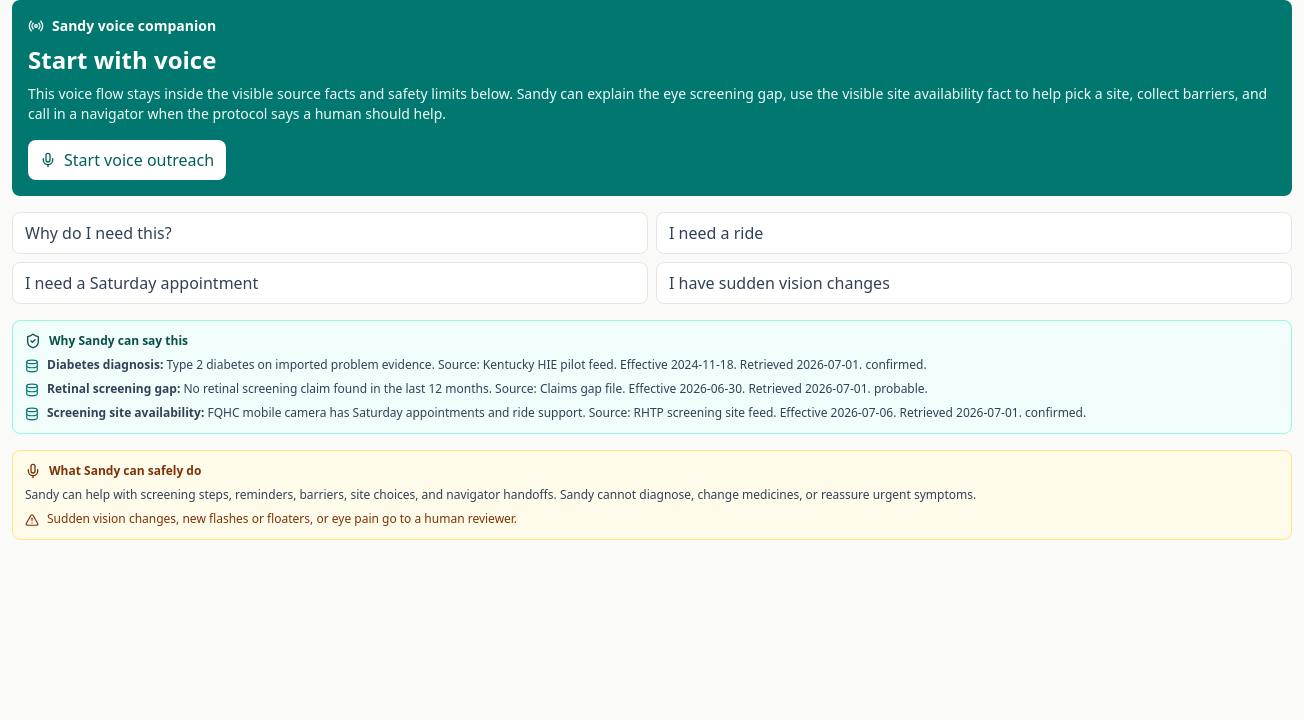
Test case: VoiceCompanionScreen › starts Sandy voice outreach and shows the transcript
The width and height of the screenshot is (1304, 720).
Click the button "Start voice outreach" at (127, 160), box top-left (28, 140), bottom-right (226, 180)
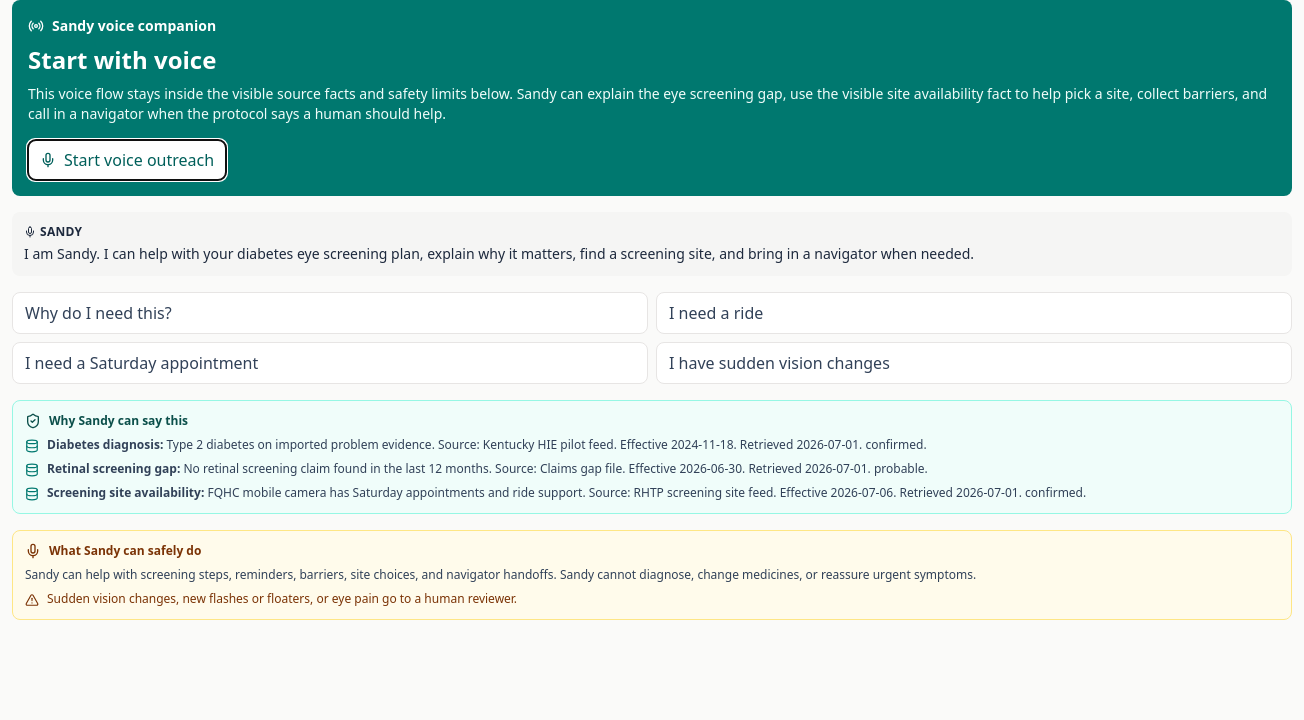
Result: the text "I am Sandy" is shown at top-left (24, 244), bottom-right (974, 263)
